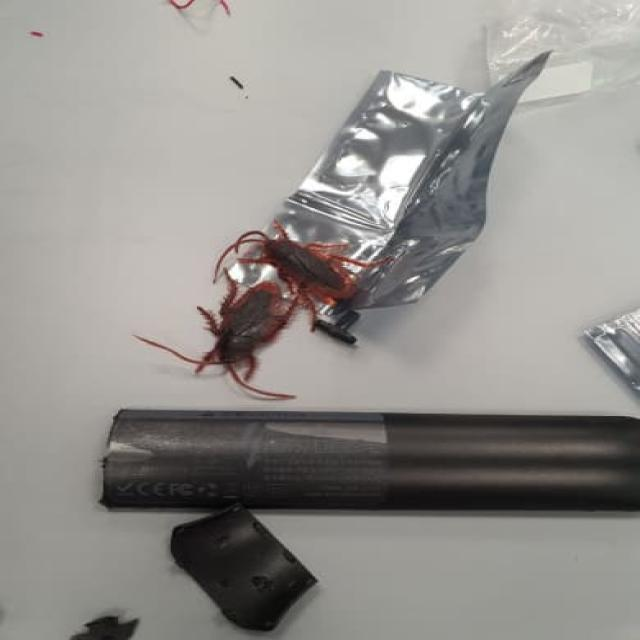Cockroach: (161, 267, 295, 403), (218, 215, 382, 322)
